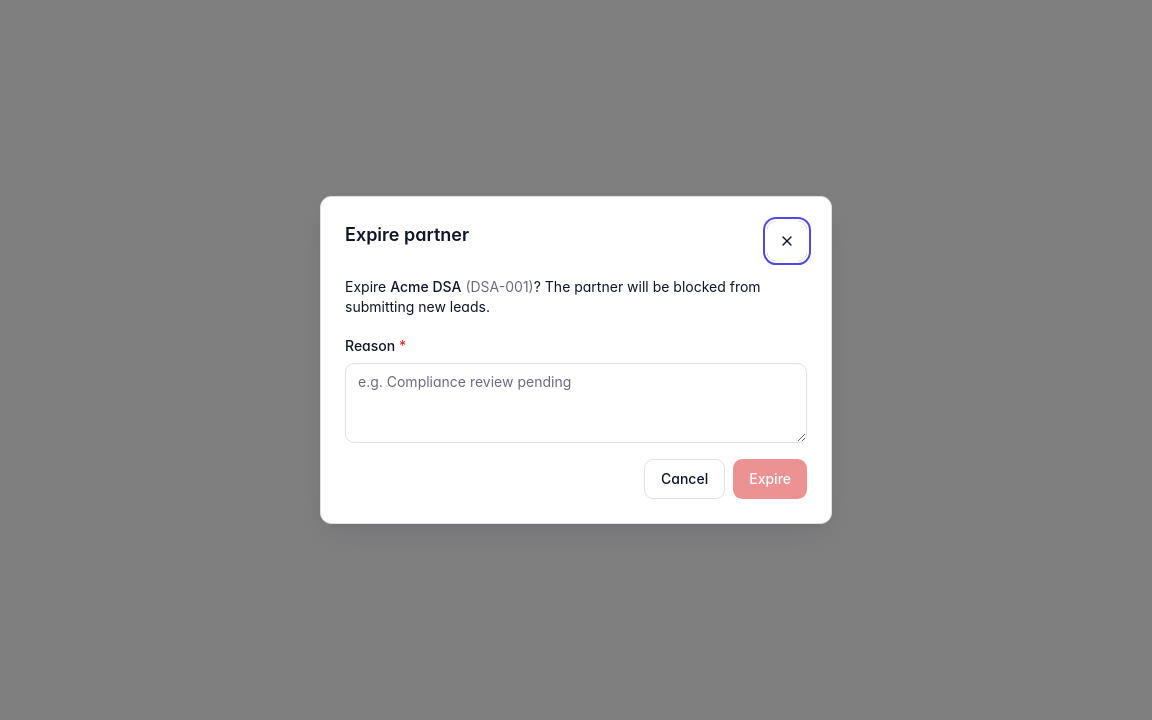
Test: PartnerStatusDialog › surfaces the VALIDATION_ERROR status field issue inline and stays open
This screenshot has width=1152, height=720.
Type "x" into the text box labelled "Reason *".
click(576, 403); type("x")  # box [345,363,807,443]
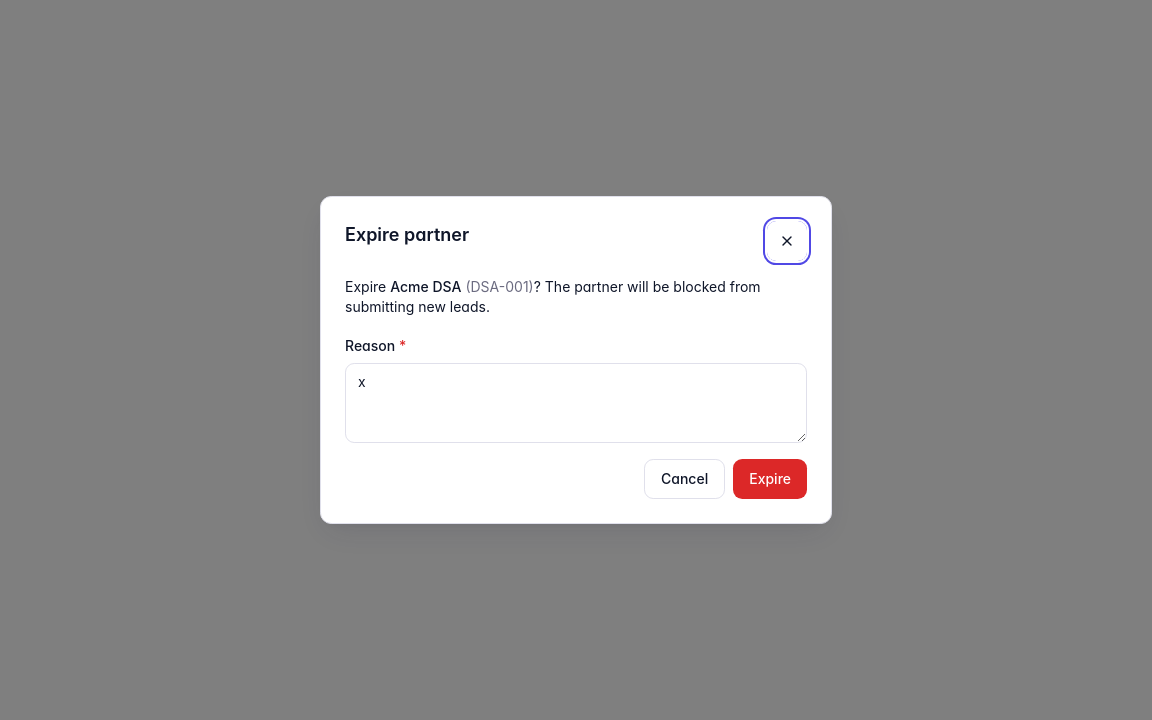
Click the button "Expire".
click(770, 479)  # box [733,459,807,499]
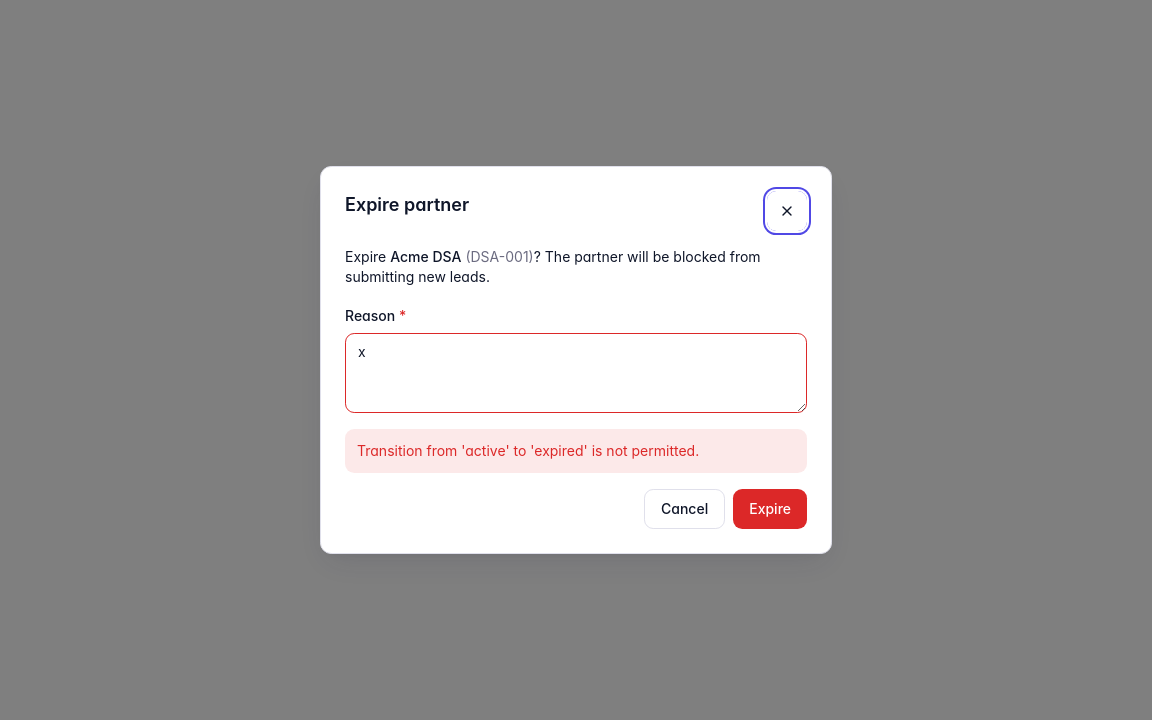
Expected: the text "Transition from 'active' to 'expired' is not permitted." is shown, [345,429,807,473]
